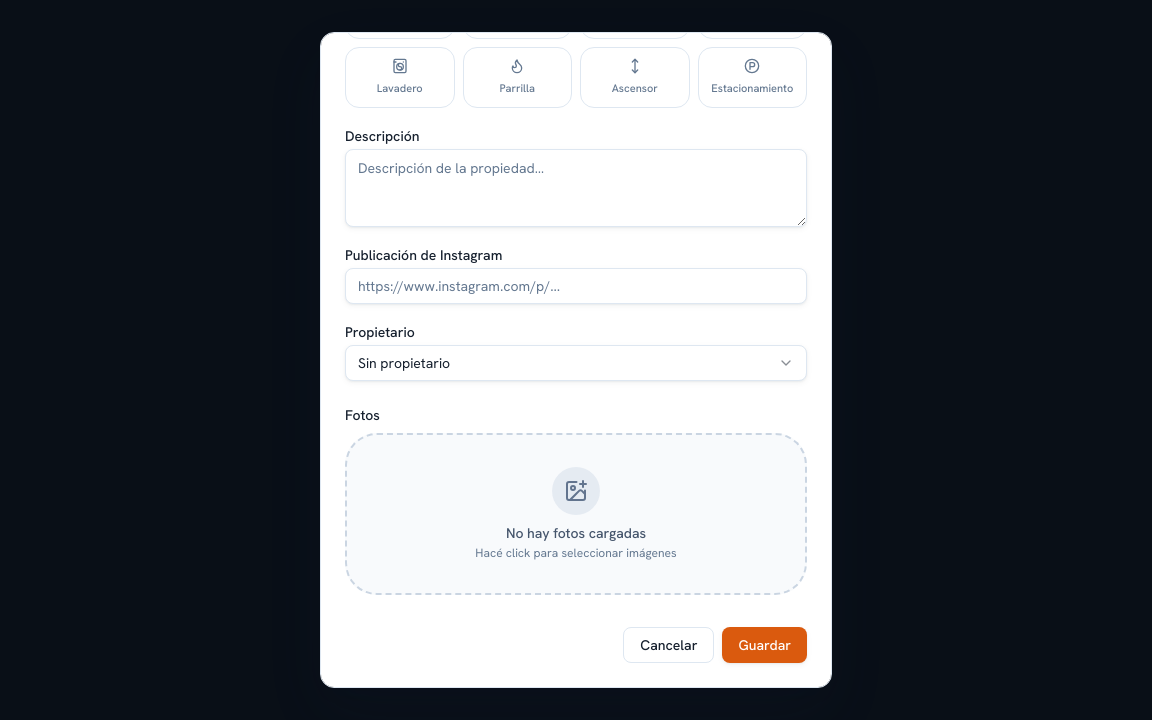
Scenario: CreatePropertyDialog › shows validation error and blocks submit when address is empty
(page scrolled)
Click the button "Guardar".
click(765, 645)  # box [722,627,807,663]
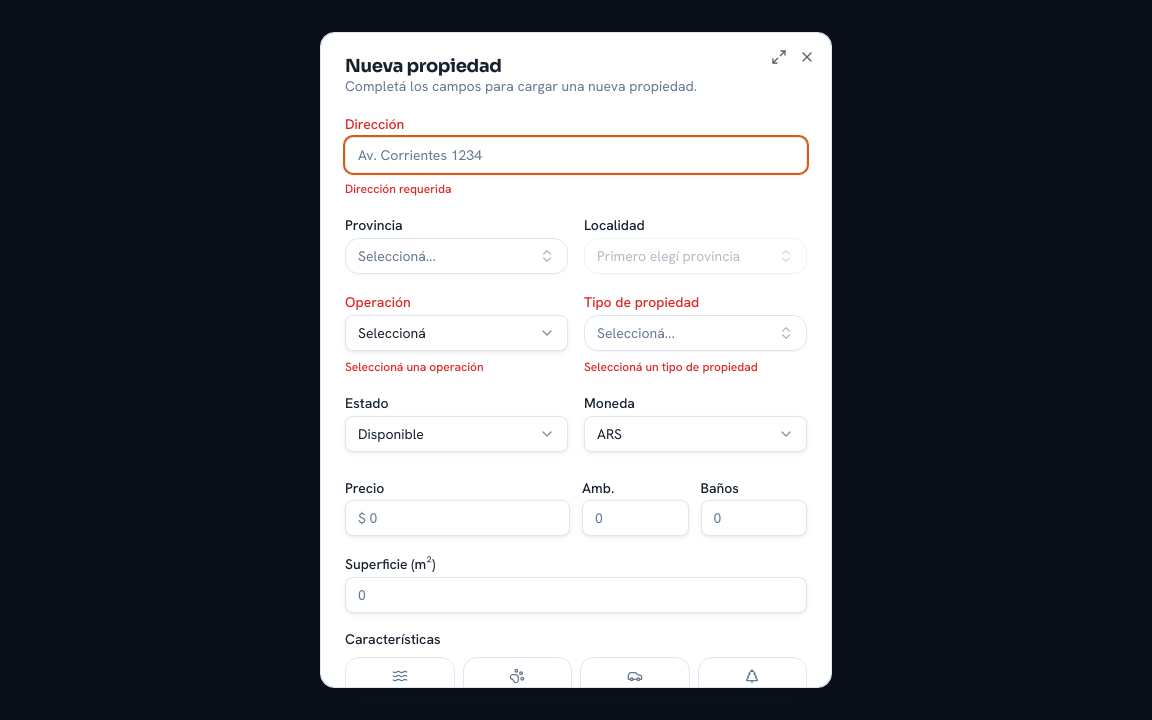
Check: the text "Dirección requerida" is shown, box [345,181,451,197]
